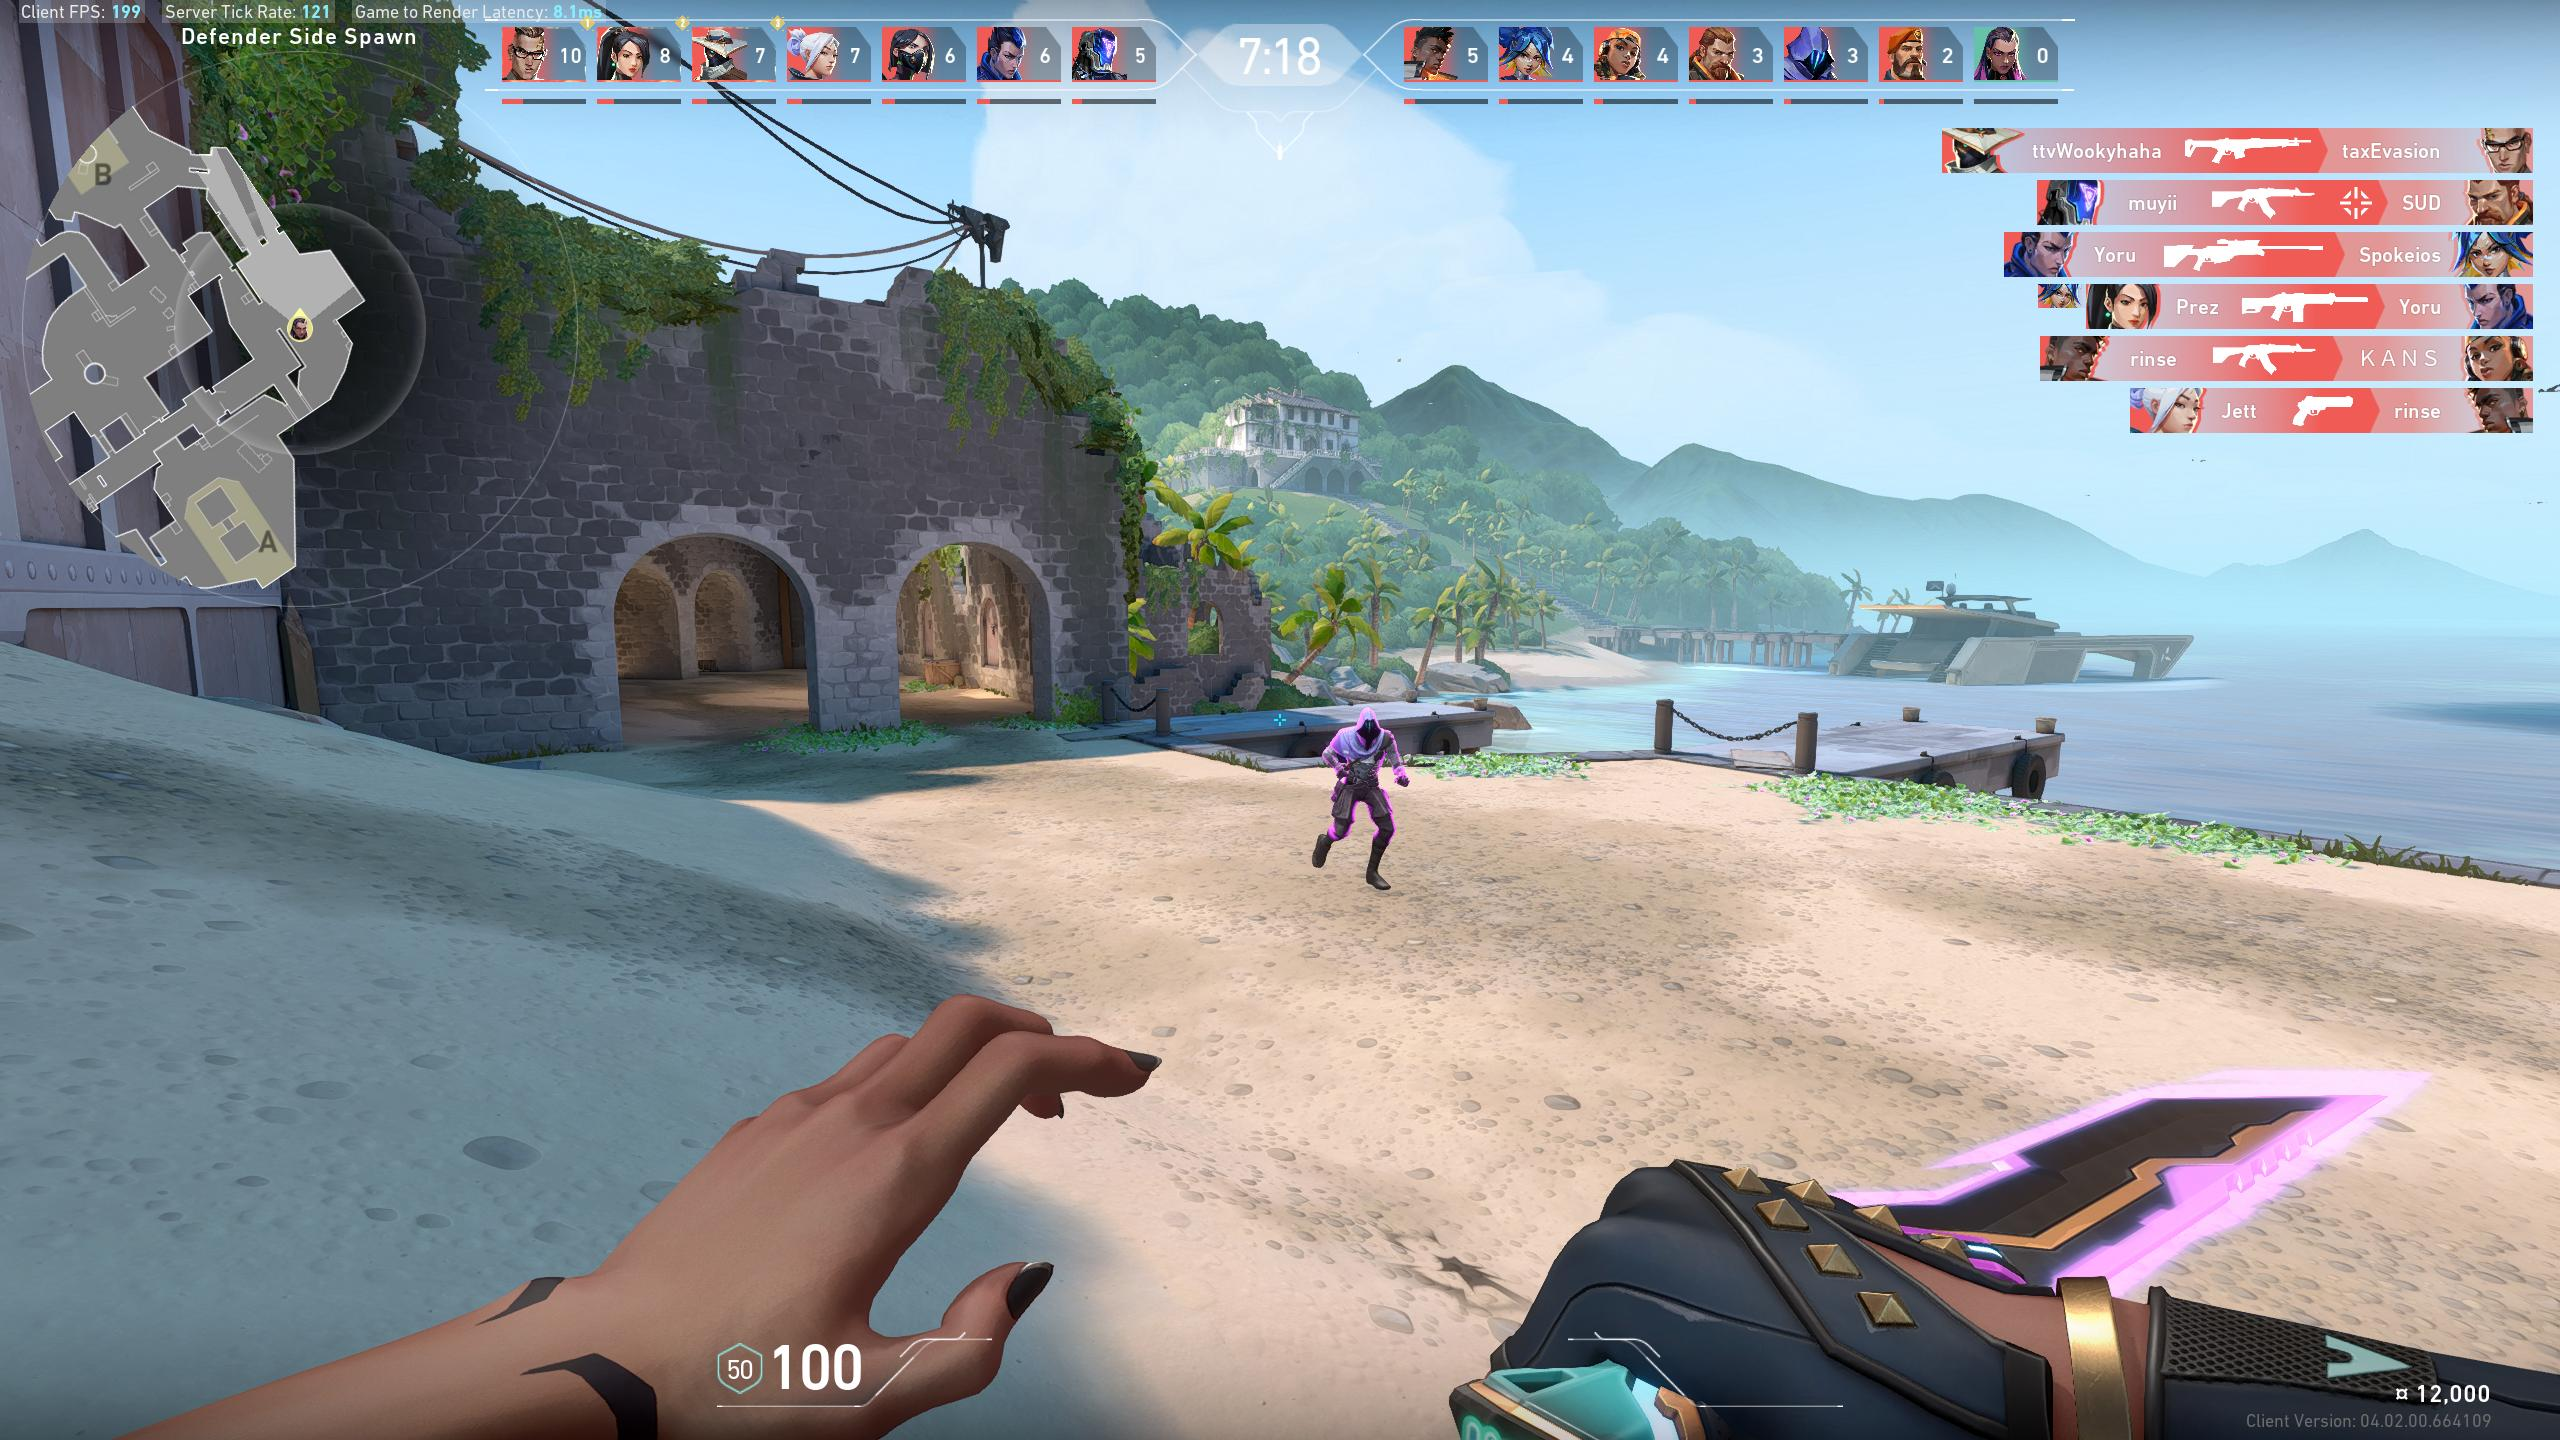enemyBody: (1352, 740, 1375, 777)
enemyHead: (1361, 716, 1375, 737)
